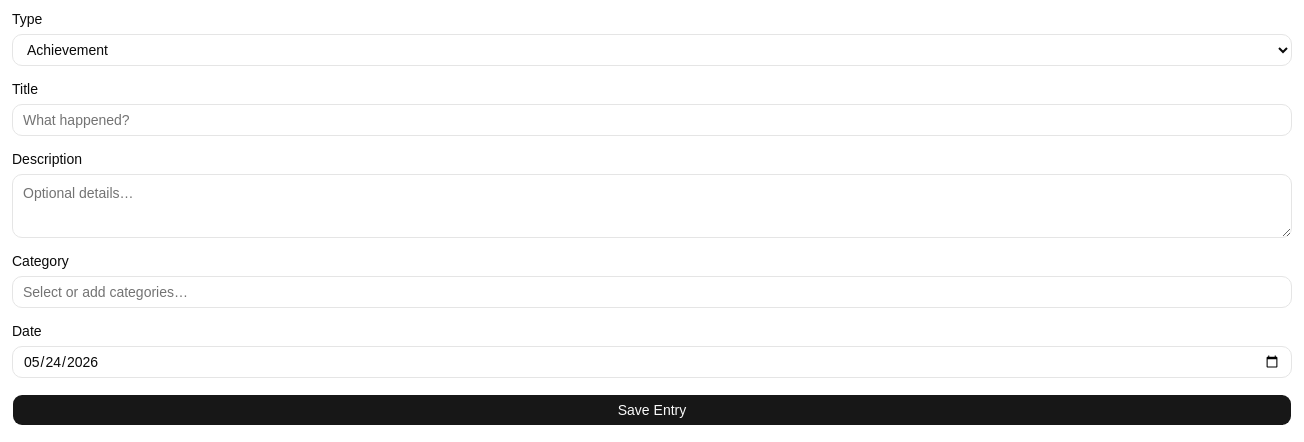
EntryForm › shows available categories in the dropdown when the category input is focused
Step 1. Focus the field labelled "Category" → (652, 292), box left=23, top=282, right=1281, bottom=302
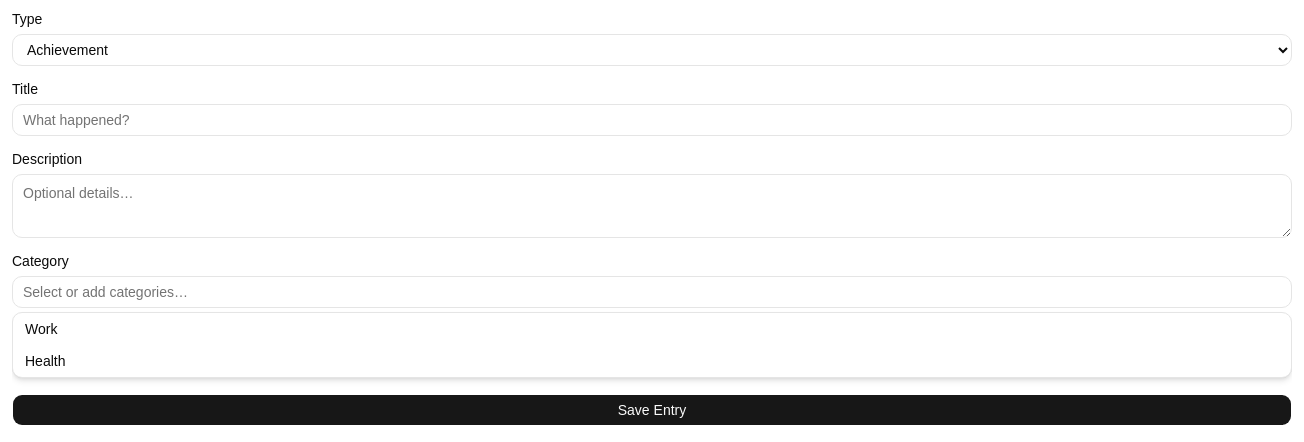
Result: the button "Work" is shown at left=13, top=313, right=1291, bottom=345
Result: the button "Health" is shown at left=13, top=345, right=1291, bottom=377
